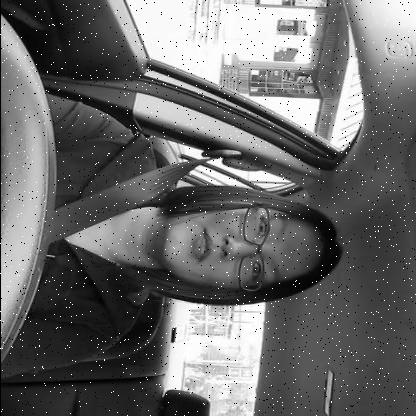seatbelt: (39, 144, 357, 340)
